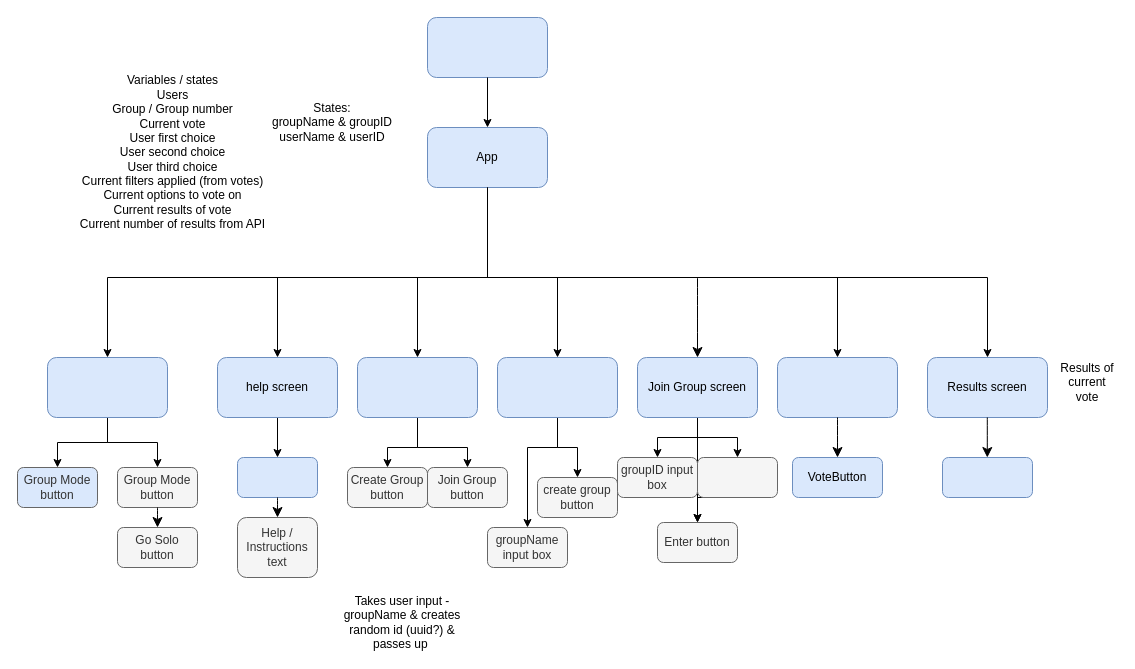
Some shapes in this 1135 by 669 pixel diagram are drawn without their labels. The shapes that lost their labels are listed below. From the top down, each one's centre as x and y in pixels, then its label:
point 487,47: React Router
point 107,387: Landing Page
point 417,387: Create / Join Group screen
point 557,387: Create Group screen
point 837,387: Voting screen
point 277,477: Back Button
point 737,477: userName input box
point 987,477: ResultsBubble
